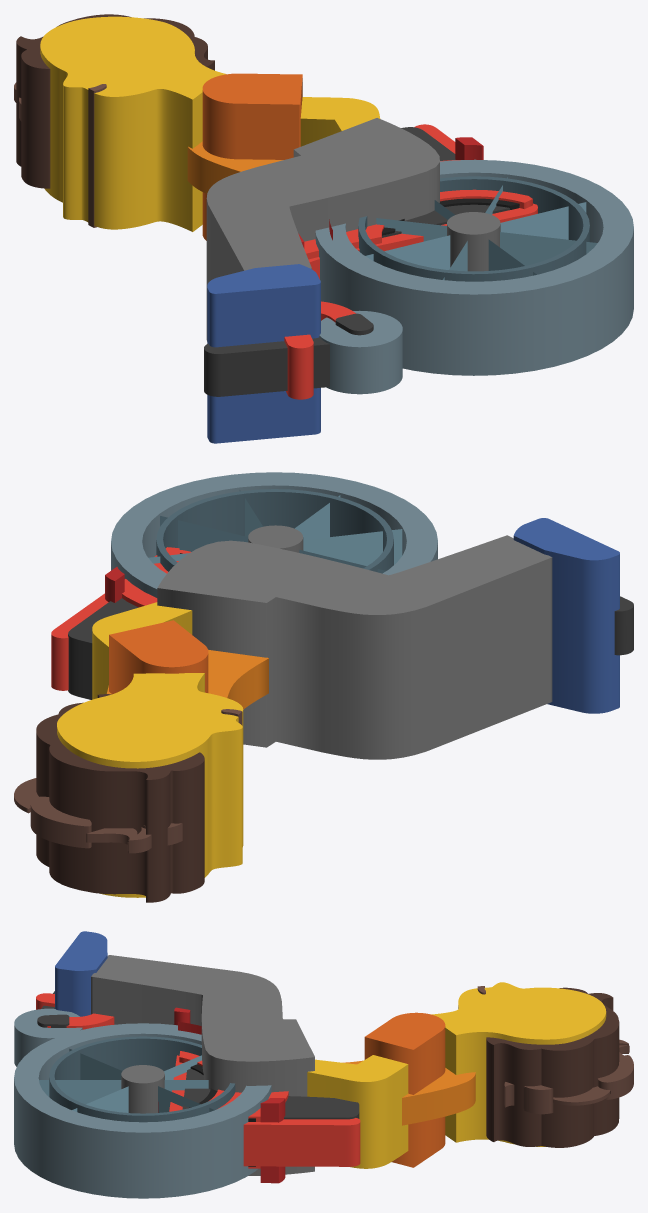
File: emoji_u1f9d1_200d_1f9bd.glb
3 views of the same model, one above another, from view 1: azimuth 30°, elevation 25°; view 2: azimuth 150°, elevation 25°; view 3: azimuth 270°, elevation 25° (orthographic). The views are drawn at different scales.
Visible parts, largest first — view 1: emoji_u1f9d1_200d_1f9bd; view 2: emoji_u1f9d1_200d_1f9bd; view 3: emoji_u1f9d1_200d_1f9bd.
Part boxes in pixels (left/top/right/bottom): emoji_u1f9d1_200d_1f9bd: left=14, top=14, right=633, bottom=443; emoji_u1f9d1_200d_1f9bd: left=14, top=472, right=633, bottom=902; emoji_u1f9d1_200d_1f9bd: left=14, top=931, right=633, bottom=1198.
Size of the model in its own units: 0.0219 by 0.007 by 0.0324.
